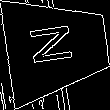N_E: (30, 25, 84, 71)
